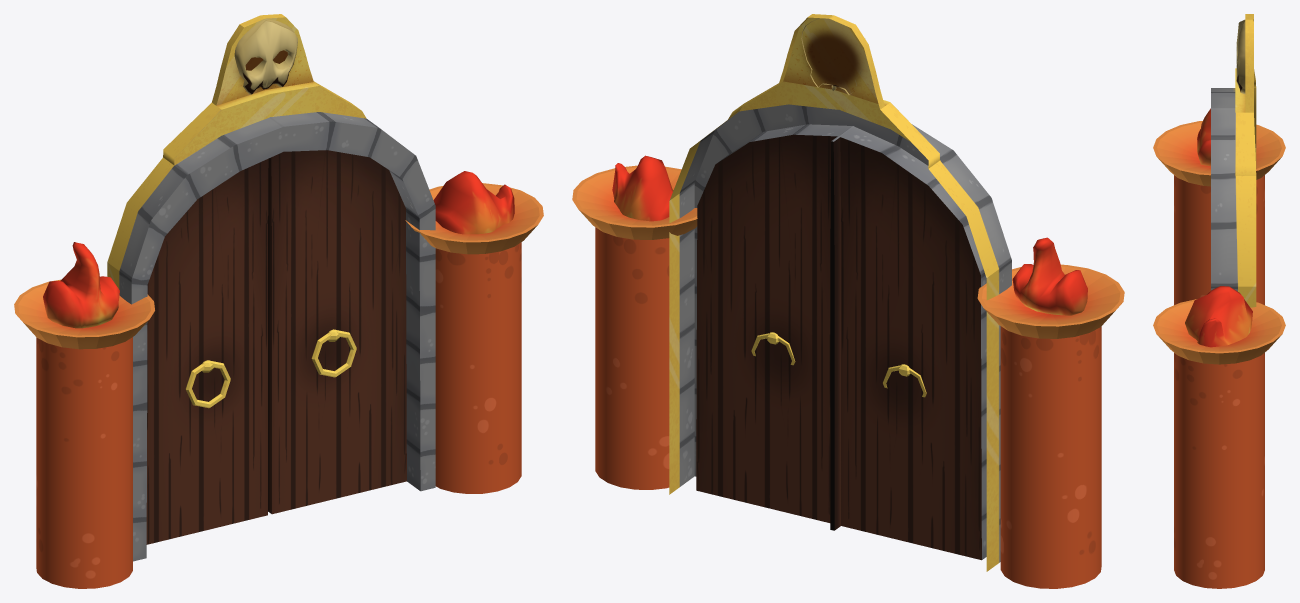
The model's file is model_Door.fbx.
3 renders of one model, left to right at view 1: azimuth 30°, elevation 25°; view 2: azimuth 150°, elevation 25°; view 3: azimuth 270°, elevation 25°, orthographic. The views are drawn at different scales.
Visible parts, largest first — view 1: Door; view 2: Door; view 3: Door.
Boxes of the visible parts, x1=… form: Door: x1=14, y1=14, x2=543, y2=588; Door: x1=572, y1=14, x2=1124, y2=588; Door: x1=1153, y1=14, x2=1285, y2=588.
Bounding box in the file's own units: 121 × 111 × 29.1.
